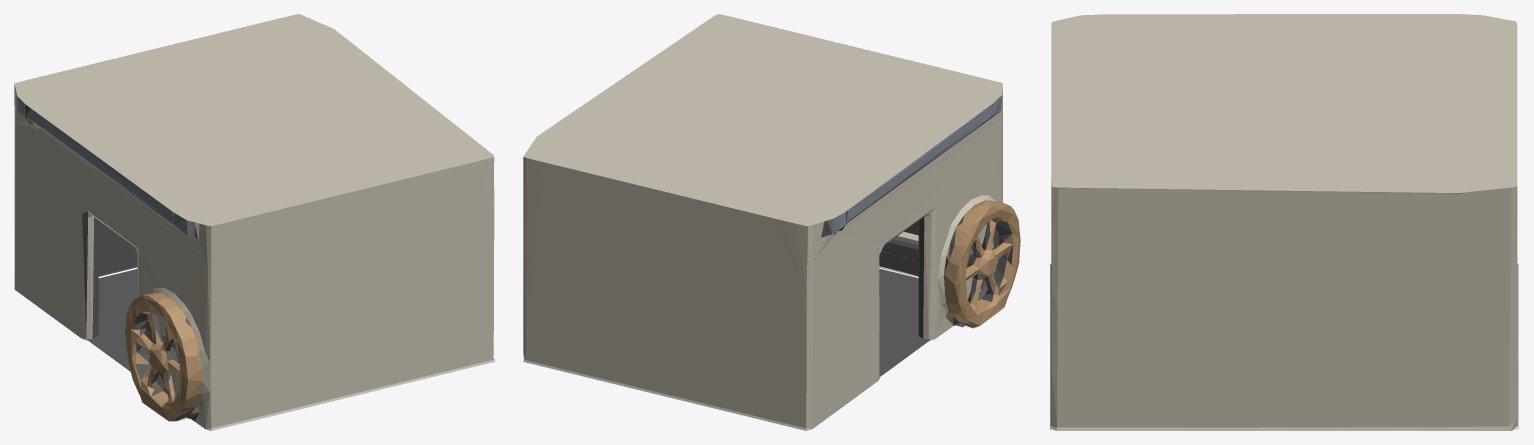
Rendered from etape-1.glb.
The picture shows the model from 3 angles, left to right: view 1: azimuth 30°, elevation 25°; view 2: azimuth 150°, elevation 25°; view 3: azimuth 270°, elevation 25°; orthographic projection. The views are drawn at different scales.
Visible parts, largest first — view 1: geometry_0; view 2: geometry_0; view 3: geometry_0.
Boxes of the visible parts, left/top/right/bottom form: geometry_0: left=14, top=14, right=494, bottom=430; geometry_0: left=523, top=14, right=1020, bottom=430; geometry_0: left=1049, top=14, right=1519, bottom=430.
Bounding box in the file's own units: 0.7415 × 0.4546 × 0.7977.
